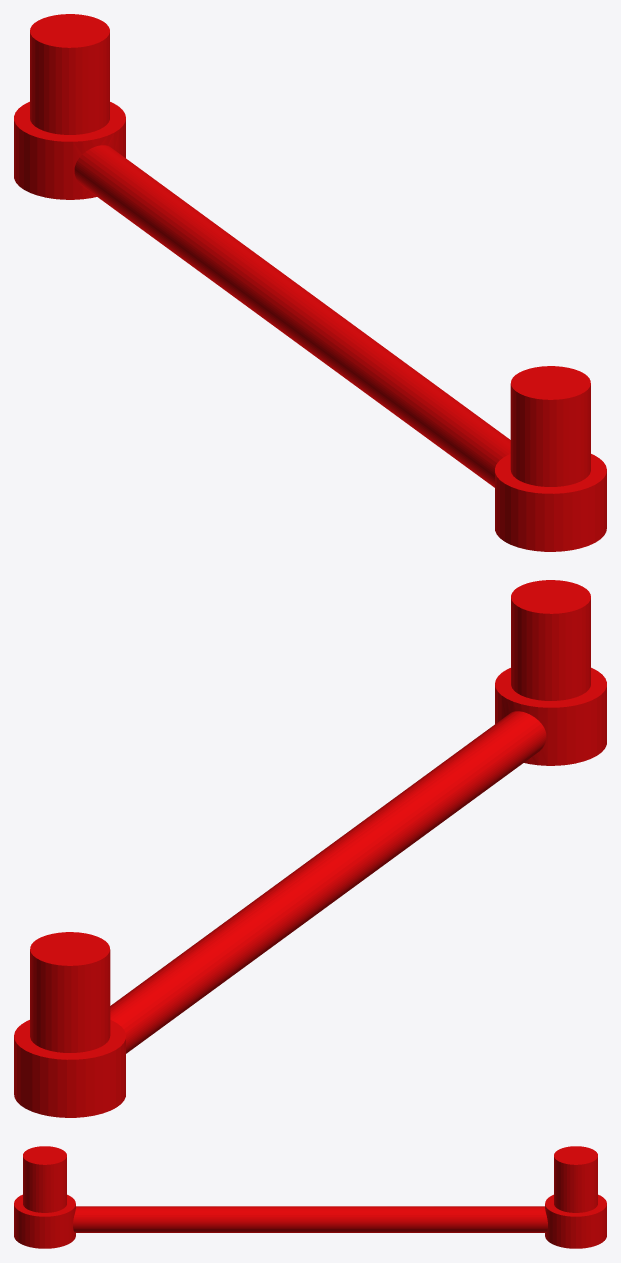
The model's file is gurdy_lowerleg.dae.
The picture shows the model from 3 angles, top to bottom: view 1: azimuth 30°, elevation 25°; view 2: azimuth 150°, elevation 25°; view 3: azimuth 270°, elevation 25°; orthographic projection. The views are drawn at different scales.
Parts seen in each view (by area): view 1: Gurdy_Lower_leg; view 2: Gurdy_Lower_leg; view 3: Gurdy_Lower_leg.
Boxes of the visible parts, x1,y1,x2,y2 form: Gurdy_Lower_leg: (14, 14, 606, 551); Gurdy_Lower_leg: (14, 580, 606, 1117); Gurdy_Lower_leg: (14, 1146, 606, 1248).
Bounding box in the file's own units: 6.99 × 66.99 × 10.
